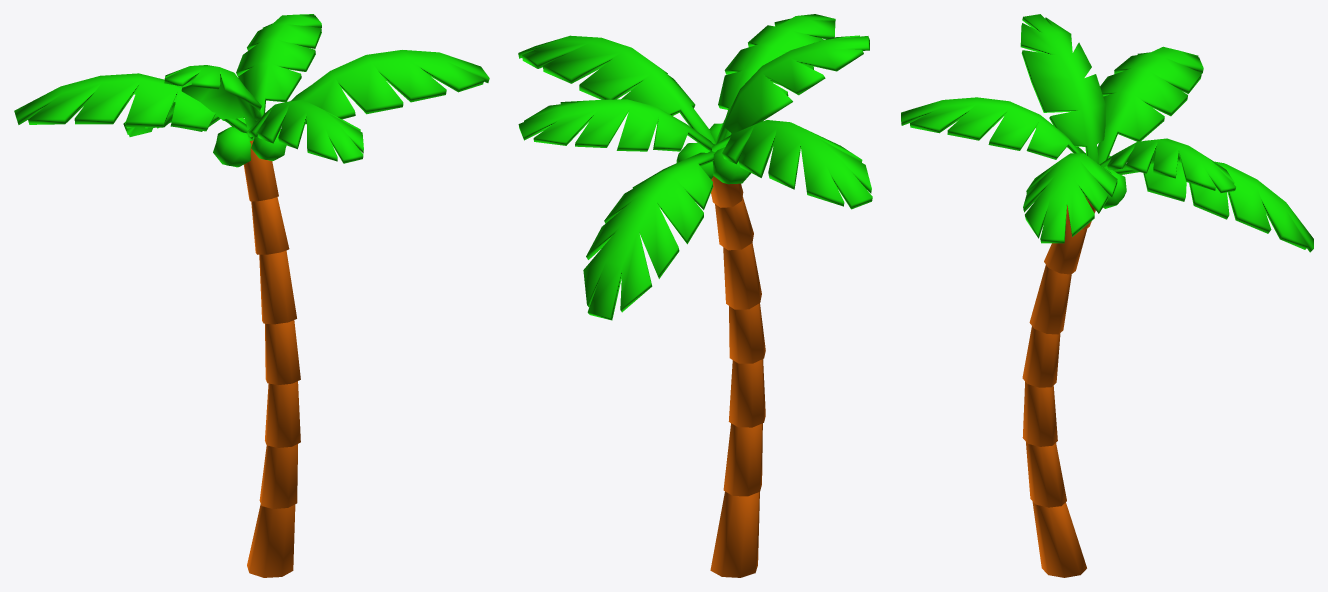
The model's file is SmoothPalm.fbx.
3 views of the same model, side by side, from view 1: azimuth 30°, elevation 25°; view 2: azimuth 150°, elevation 25°; view 3: azimuth 270°, elevation 25° (orthographic). The views are drawn at different scales.
Visible parts, largest first — view 1: palm_tree_01; view 2: palm_tree_01; view 3: palm_tree_01.
Boxes of the visible parts, bbox=[...] form: palm_tree_01: bbox=[14, 14, 489, 577]; palm_tree_01: bbox=[518, 14, 872, 577]; palm_tree_01: bbox=[901, 14, 1313, 577].
Bounding box in the file's own units: 15984 × 19970 × 14900.
